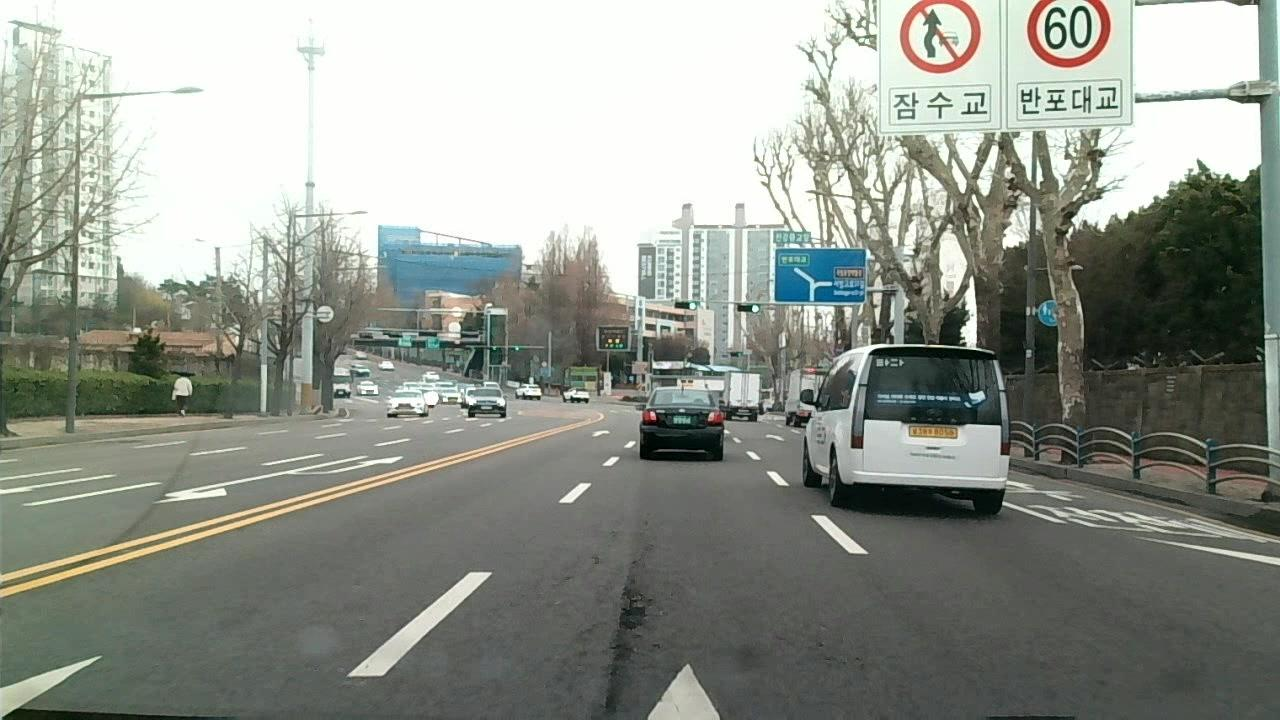vcrack: (588, 578, 648, 714)
